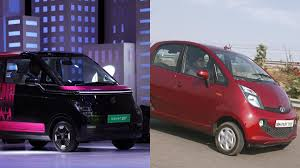Nano: (148, 40, 297, 158)
